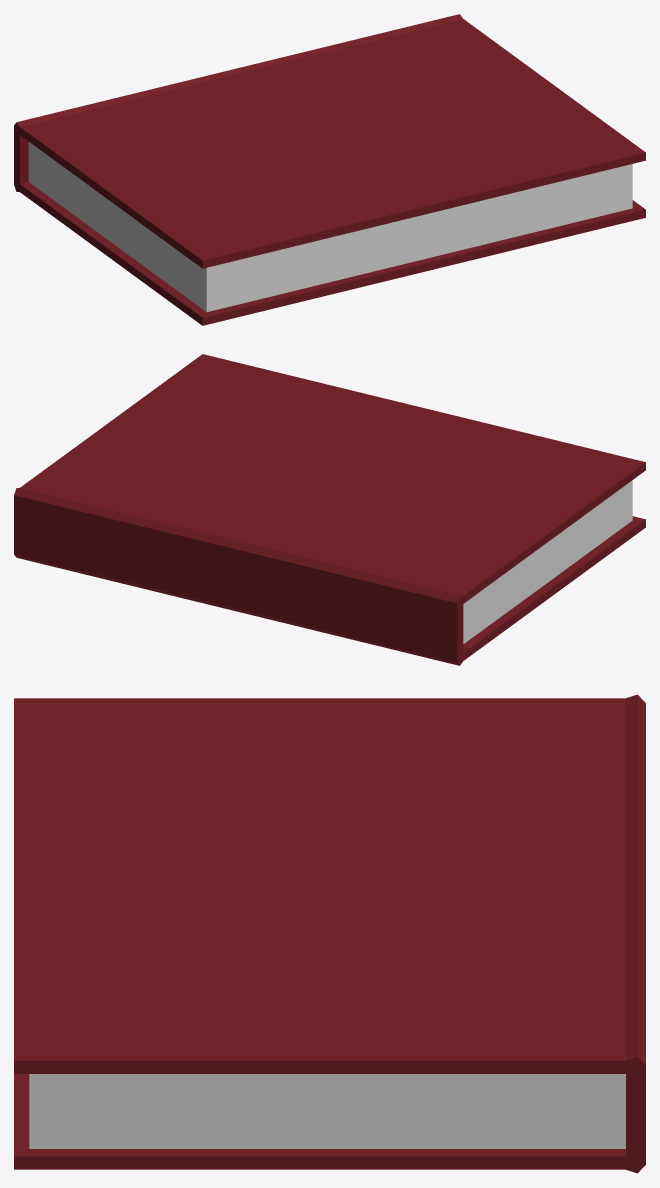
File: book_closed.fbx
The picture shows the model from 3 angles, top to bottom: view 1: azimuth 30°, elevation 25°; view 2: azimuth 150°, elevation 25°; view 3: azimuth 270°, elevation 25°; orthographic projection. The views are drawn at different scales.
Visible parts, largest first — view 1: book_closed; view 2: book_closed; view 3: book_closed.
Boxes of the visible parts, x1,y1,x2,y2 form: book_closed: [14, 14, 645, 325]; book_closed: [14, 354, 645, 665]; book_closed: [14, 694, 645, 1173].
Bounding box in the file's own units: 29.33 × 4.4 × 21.62.
